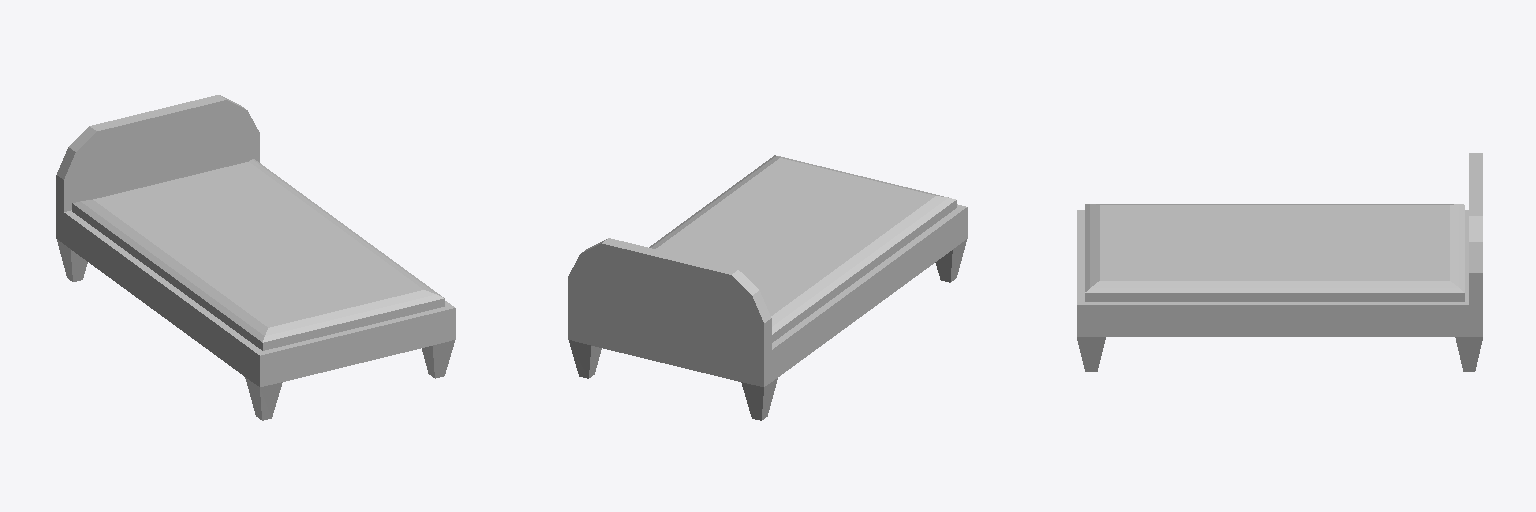
The model's file is Bed.obj.
The picture shows the model from 3 angles: view 1: azimuth 30°, elevation 25°; view 2: azimuth 150°, elevation 25°; view 3: azimuth 270°, elevation 25°; orthographic projection.
Parts seen in each view (by area): view 1: Cube1_extract2; view 2: Cube1_extract2; view 3: Cube1_extract2.
Part boxes in pixels (x1,y1,x2,y2): Cube1_extract2: (56,95,455,420); Cube1_extract2: (568,155,967,420); Cube1_extract2: (1077,153,1482,371).
Bounding box in the file's own units: 4.06 × 2.83 × 7.31.